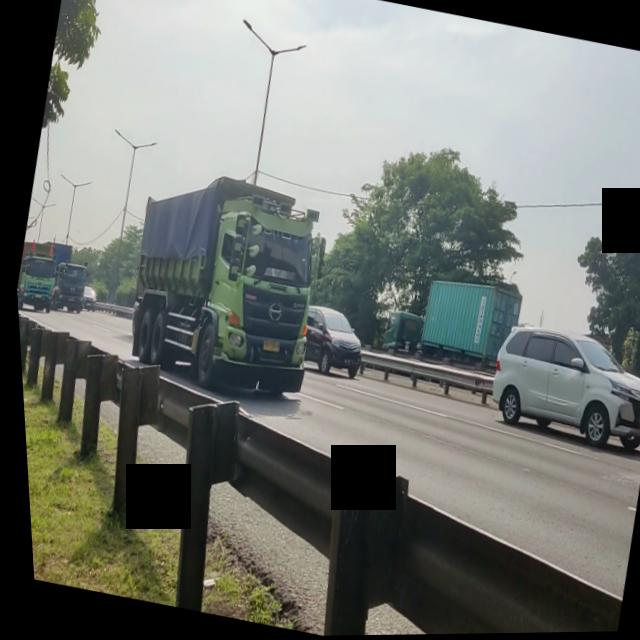Golongan I: (466, 304, 640, 462)
Golongan III: (104, 169, 336, 412)
